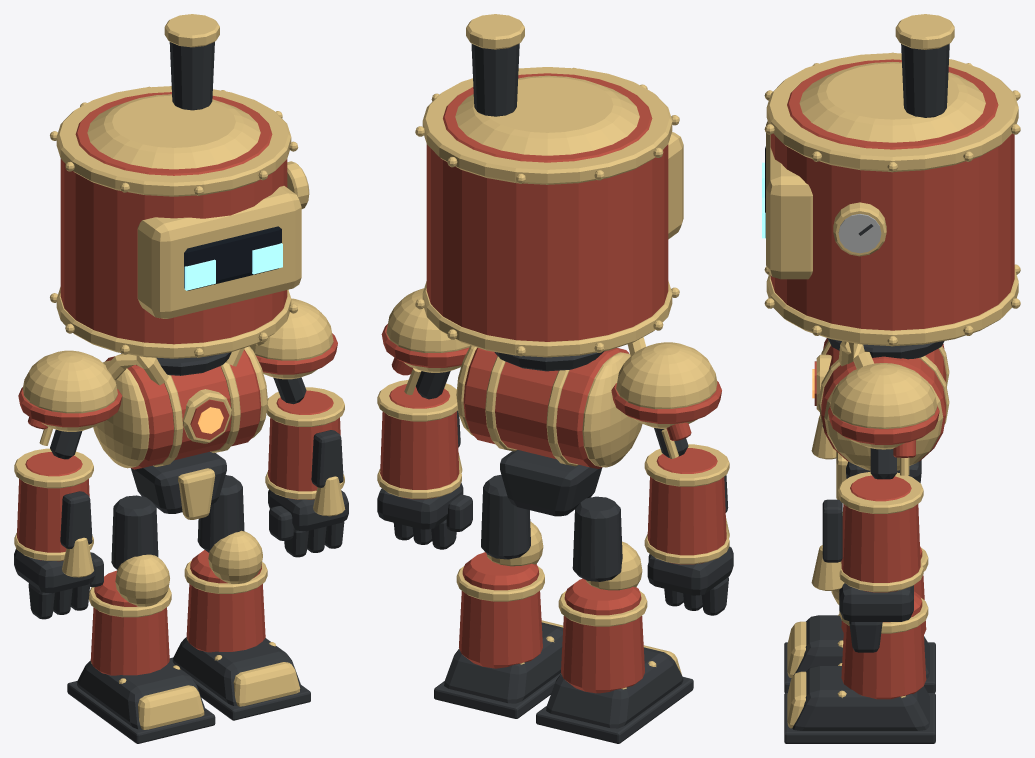
Rendered from caldeira.glb.
The picture shows the model from 3 angles, left to right: view 1: azimuth 30°, elevation 25°; view 2: azimuth 150°, elevation 25°; view 3: azimuth 270°, elevation 25°; orthographic projection. The views are drawn at different scales.
Parts seen in each view (by area): view 1: cabeca_p.001, moldura, tampa, aro.001, tronco_p.001, bota.003, bota.002, ombro_p.003, antebraco.003, antebraco.002, pe.003, aro (+42 smaller); view 2: cabeca_p.001, tampa, tronco_p.001, aro.001, bota.003, bota.002, antebraco.003, antebraco.002, ombro_p.003, pe.003, pelve.001, pe.002 (+29 smaller); view 3: cabeca_p.001, tampa, aro.001, antebraco.002, ombro_p.002, pe.002, moldura, bota.002, aro, chamine, sola.002, mao.002 (+23 smaller).
Part boxes in pixels (<box>): cabeca_p.001: <box>60,92,287,344</box>; moldura: <box>137,186,301,318</box>; tampa: <box>87,94,260,169</box>; aro.001: <box>56,86,291,196</box>; tronco_p.001: <box>105,349,261,469</box>; bota.003: <box>90,570,169,675</box>; bota.002: <box>186,550,265,652</box>; ombro_p.003: <box>22,350,117,431</box>; antebraco.003: <box>17,452,89,561</box>; antebraco.002: <box>268,390,340,499</box>; pe.003: <box>77,660,205,729</box>; aro: <box>56,287,291,358</box>; cabeca_p.001: <box>426,73,668,341</box>; tampa: <box>455,75,639,155</box>; tronco_p.001: <box>463,347,629,468</box>; aro.001: <box>422,67,672,184</box>; bota.003: <box>561,578,644,693</box>; bota.002: <box>459,552,542,668</box>; antebraco.003: <box>647,448,726,564</box>; antebraco.002: <box>380,384,459,499</box>; ombro_p.003: <box>616,342,717,428</box>; pe.003: <box>546,647,683,728</box>; pelve.001: <box>500,450,602,516</box>; pe.002: <box>444,622,563,703</box>; cabeca_p.001: <box>770,59,1014,330</box>; tampa: <box>799,62,985,142</box>; aro.001: <box>766,53,1018,171</box>; antebraco.002: <box>841,475,920,592</box>; ombro_p.002: <box>830,363,937,449</box>; pe.002: <box>792,665,929,730</box>; moldura: <box>766,121,812,279</box>; bota.002: <box>841,591,926,699</box>; aro: <box>766,269,1018,345</box>; chamine: <box>901,44,949,117</box>; sola.002: <box>784,692,935,743</box>; mao.002: <box>839,583,913,621</box>.
Bounding box in the file's own units: 0.6658 × 1.28 × 0.4349.
